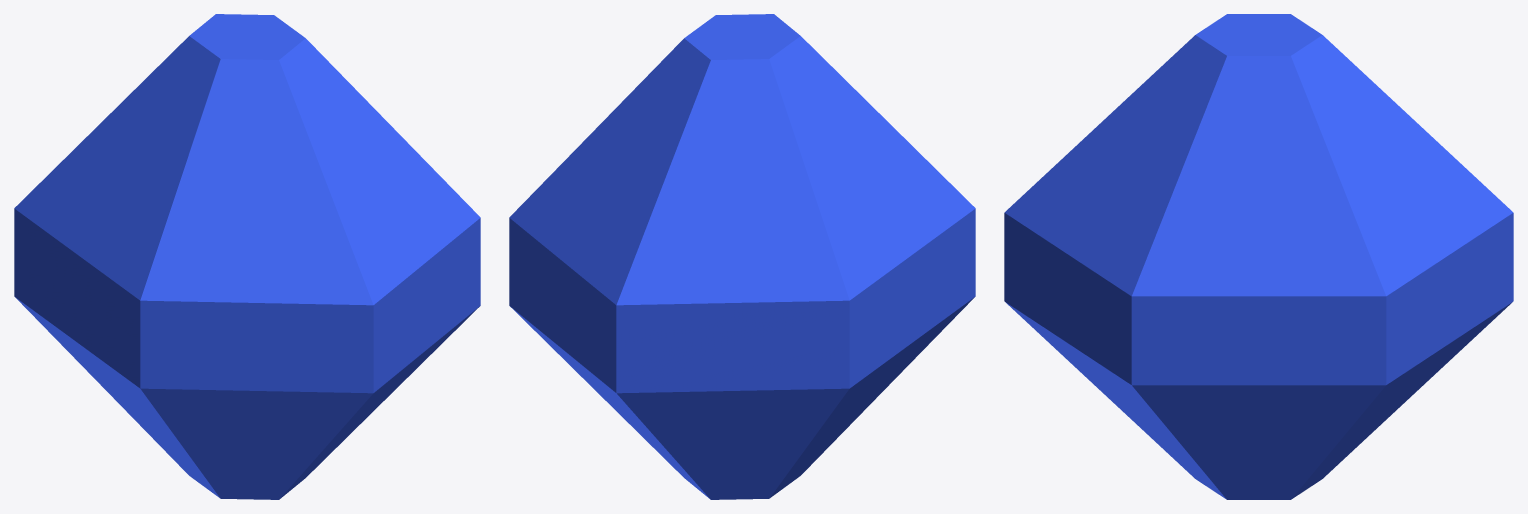
The model's file is gems_sapphire_original.obj.
3 renders of one model, left to right at view 1: azimuth 30°, elevation 25°; view 2: azimuth 150°, elevation 25°; view 3: azimuth 270°, elevation 25°, orthographic.
Parts seen in each view (by area): view 1: mergedBlocks; view 2: mergedBlocks; view 3: mergedBlocks.
Part boxes in pixels (<box>): mergedBlocks: <box>14,14,480,499</box>; mergedBlocks: <box>509,14,975,499</box>; mergedBlocks: <box>1004,14,1513,499</box>.
Bounding box in the file's own units: 0.729 × 0.9 × 0.9353.
